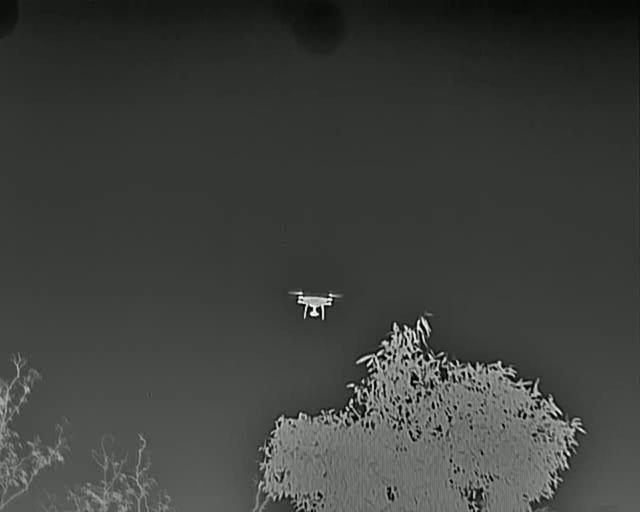DJI-Phantom: (285, 287, 347, 324)
